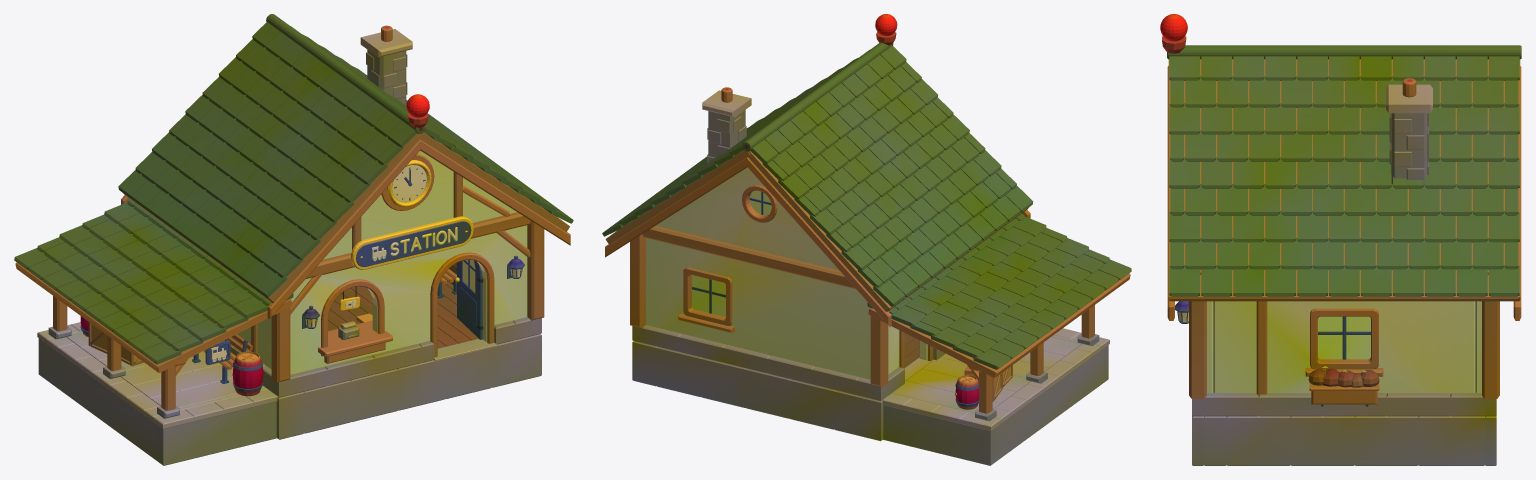
File: Station_Building_Green.glb
3 views of the same model, side by side, from view 1: azimuth 30°, elevation 25°; view 2: azimuth 150°, elevation 25°; view 3: azimuth 270°, elevation 25° (orthographic). The views are drawn at different scales.
Parts seen in each view (by area): view 1: Roof, LeanTo, Walls, Plinth, Facade, Openings, Door, Loose_Barrel_Canopy, Loose_CrateStack_Canopy, Sign_Name_Text, Loose_Bench_Canopy; view 2: Roof, LeanTo, Walls, Plinth, Facade, Loose_Barrel_Small; view 3: Roof, Walls, Plinth, Facade.
Boxes of the visible parts, x1=… form: Roof: x1=118, y1=14, x2=573, y2=302; LeanTo: x1=14, y1=199, x2=293, y2=465; Walls: x1=121, y1=139, x2=570, y2=382; Plinth: x1=224, y1=281, x2=541, y2=439; Facade: x1=302, y1=154, x2=524, y2=328; Openings: x1=318, y1=252, x2=494, y2=363; Door: x1=455, y1=259, x2=483, y2=339; Loose_Barrel_Canopy: x1=232, y1=351, x2=263, y2=396; Loose_CrateStack_Canopy: x1=88, y1=322, x2=143, y2=366; Sign_Name_Text: x1=390, y1=227, x2=457, y2=256; Loose_Bench_Canopy: x1=192, y1=334, x2=252, y2=383; Roof: x1=602, y1=14, x2=1033, y2=311; LeanTo: x1=867, y1=213, x2=1131, y2=465; Walls: x1=605, y1=157, x2=1030, y2=386; Plinth: x1=632, y1=325, x2=945, y2=441; Facade: x1=678, y1=185, x2=933, y2=368; Loose_Barrel_Small: x1=955, y1=375, x2=978, y2=409; Roof: x1=1160, y1=14, x2=1521, y2=301; Walls: x1=1167, y1=66, x2=1521, y2=398; Plinth: x1=1192, y1=392, x2=1496, y2=465; Facade: x1=1175, y1=301, x2=1383, y2=406.
Bounding box in the file's own units: 10.63 × 7.78 × 6.79.
